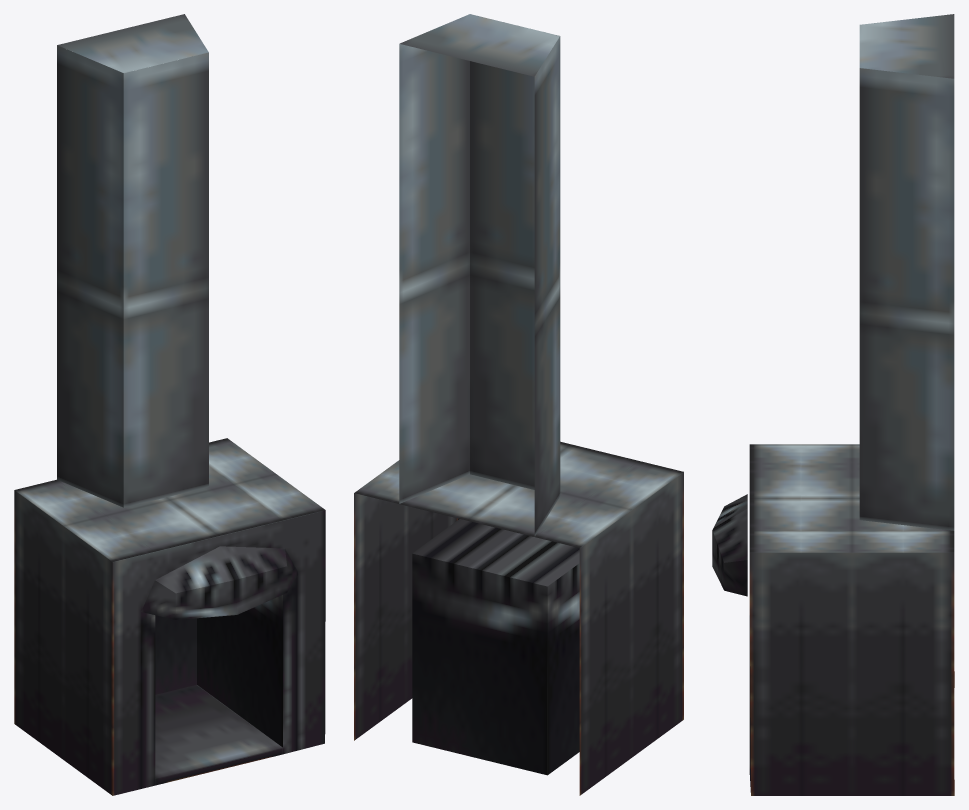
Rendered from Inside_Poly_Fire_Place_03.obj.
3 renders of one model, left to right at view 1: azimuth 30°, elevation 25°; view 2: azimuth 150°, elevation 25°; view 3: azimuth 270°, elevation 25°, orthographic. The views are drawn at different scales.
Visible parts, largest first — view 1: Cube_Cube.004, Cube.002, Cube.001, Circle; view 2: Cube_Cube.004, Circle; view 3: Cube_Cube.004, Circle, Cube.002.
Part boxes in pixels (x1,y1,x2,y2): Cube_Cube.004: (14, 45, 325, 795); Cube.002: (141, 546, 298, 619); Cube.001: (155, 685, 282, 785); Circle: (57, 14, 208, 72); Cube_Cube.004: (354, 36, 683, 795); Circle: (400, 14, 559, 76); Cube_Cube.004: (749, 68, 954, 795); Circle: (859, 14, 954, 78); Cube.002: (712, 494, 747, 596).
Size of the model in its own units: 1 by 3 by 0.9461.
Materials: 1 (1 with a texture image).
